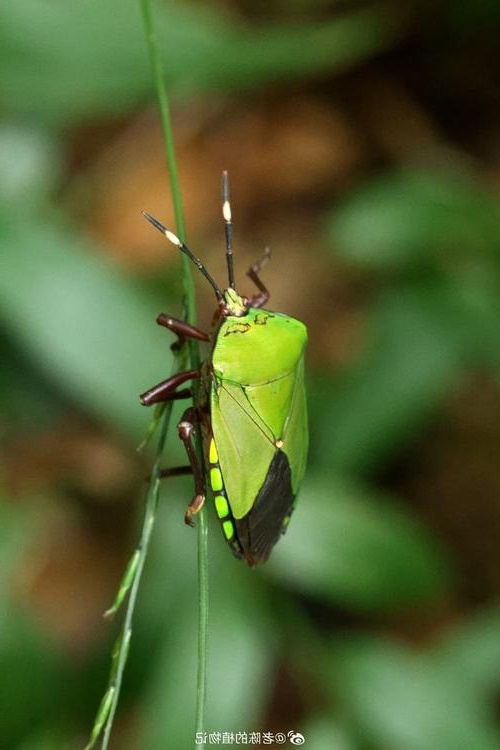Stink_Bug: (176, 237, 308, 575)
